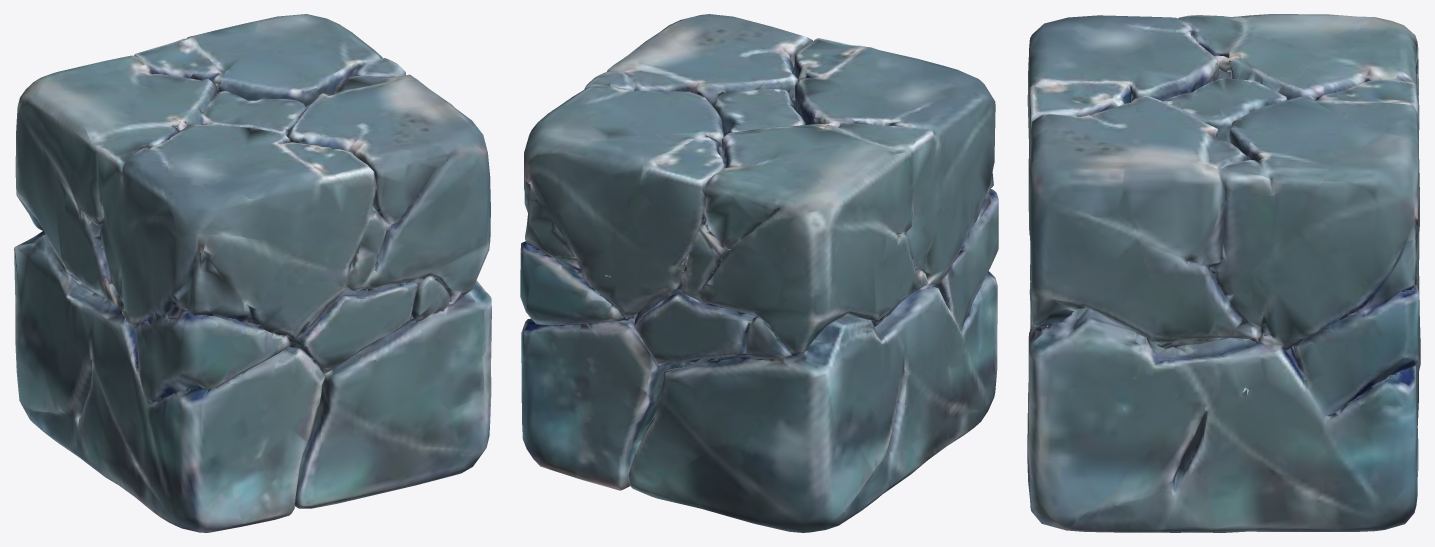
The model's file is urban.glb.
The picture shows the model from 3 angles, left to right: view 1: azimuth 30°, elevation 25°; view 2: azimuth 150°, elevation 25°; view 3: azimuth 270°, elevation 25°; orthographic projection. The views are drawn at different scales.
Size of the model in its own units: 1.8 by 1.88 by 1.8.
1 material, 1 textured.
